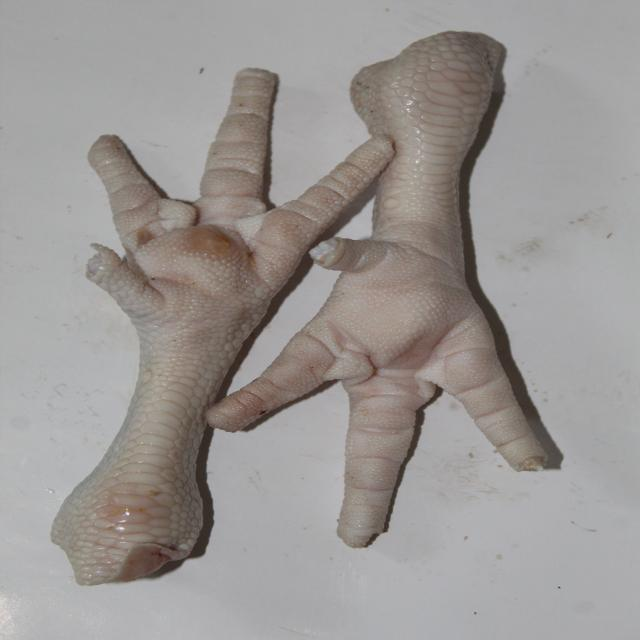chicken: (204, 29, 558, 548), (60, 67, 397, 582)
